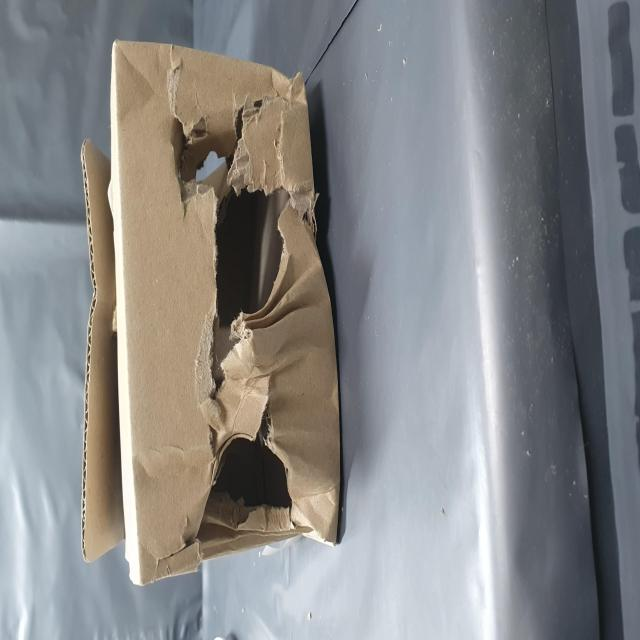damaged: (156, 305, 305, 550), (45, 331, 117, 554)
